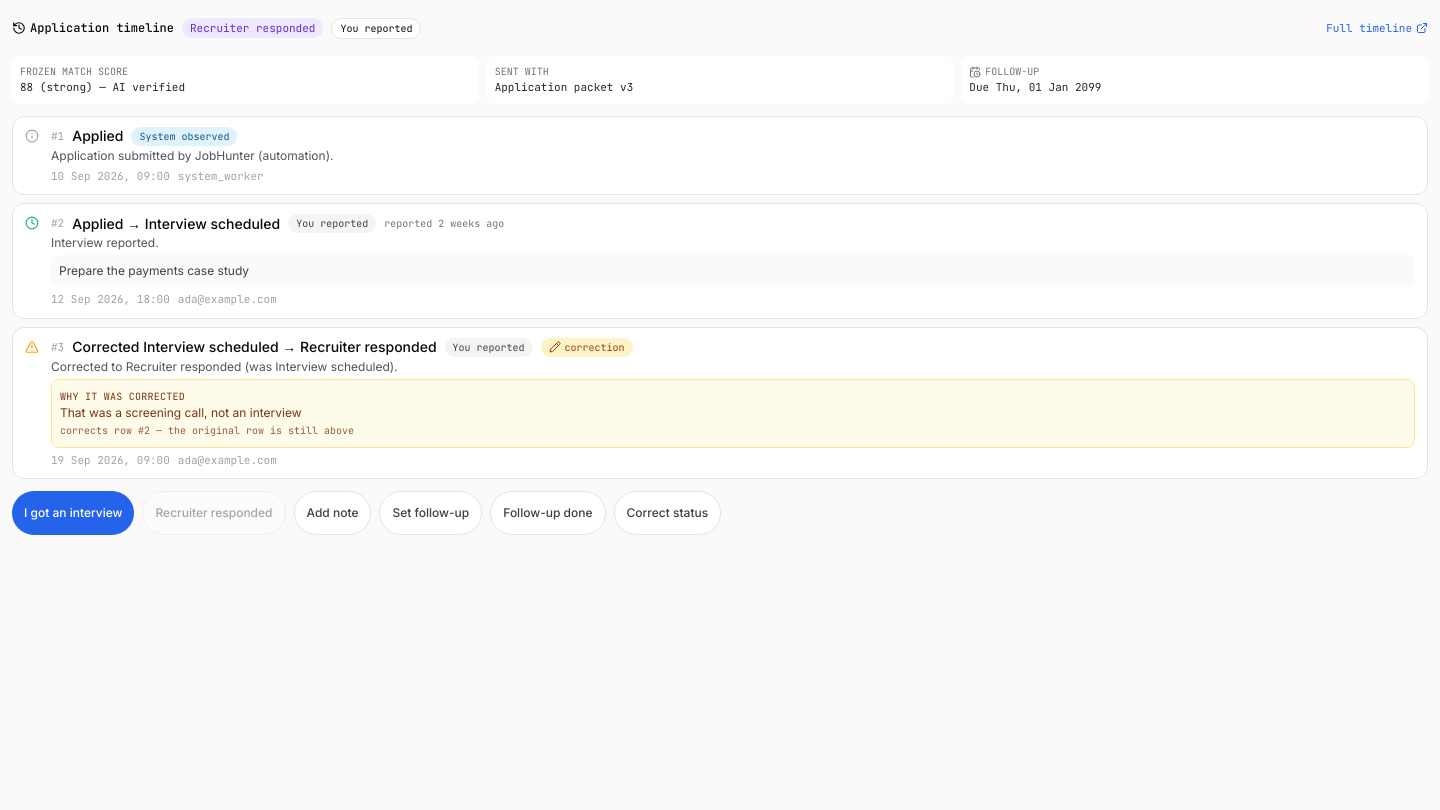
Test: TrackingPanel (the Jobs drawer) › tells the user when a write was a replay rather than a new fact
Click the button with test id "action-note" at (332, 513), box top-left (294, 491), bottom-right (371, 535)
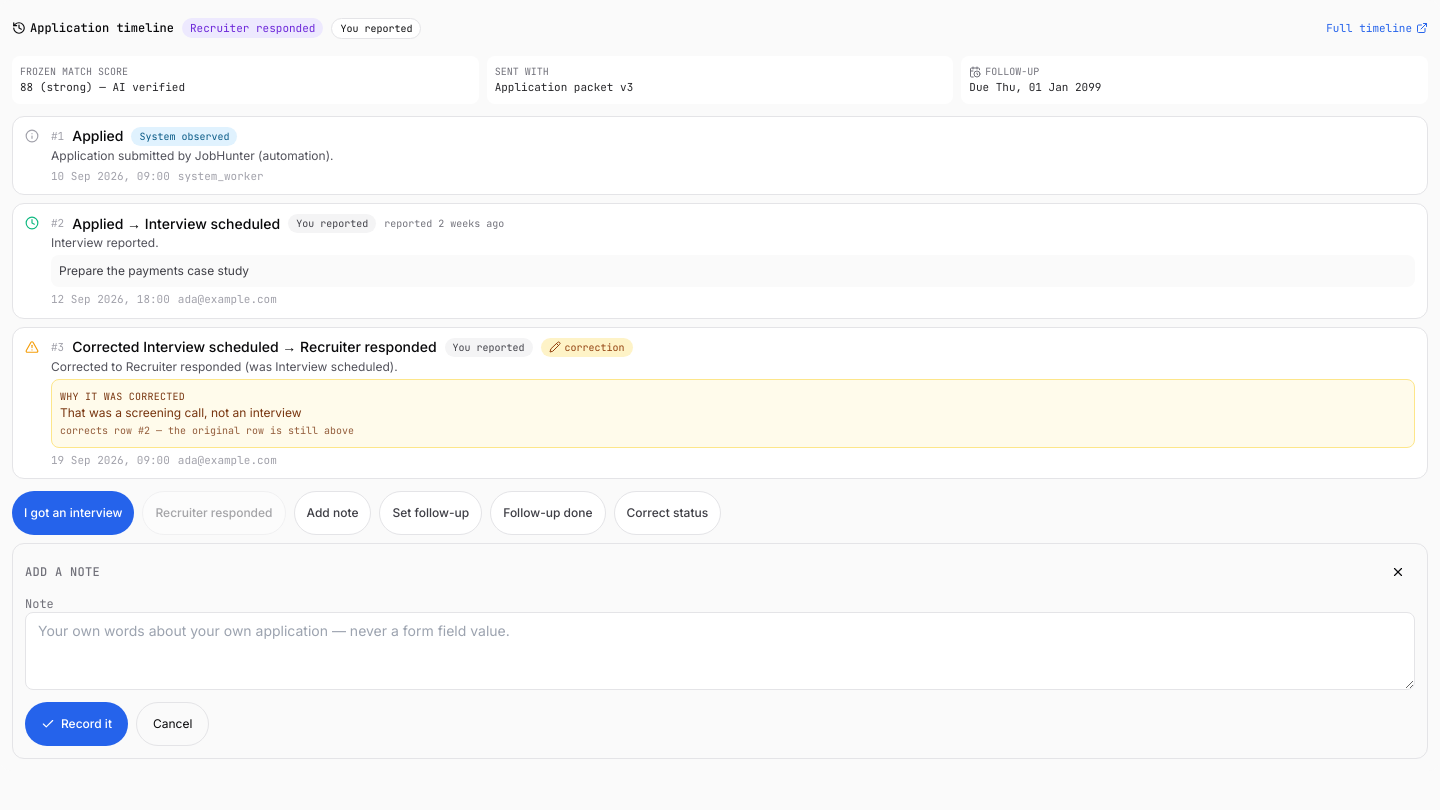
Replace the text in the text box with test id "note-input" with "Still waiting" at (720, 651), box top-left (25, 612), bottom-right (1415, 690)
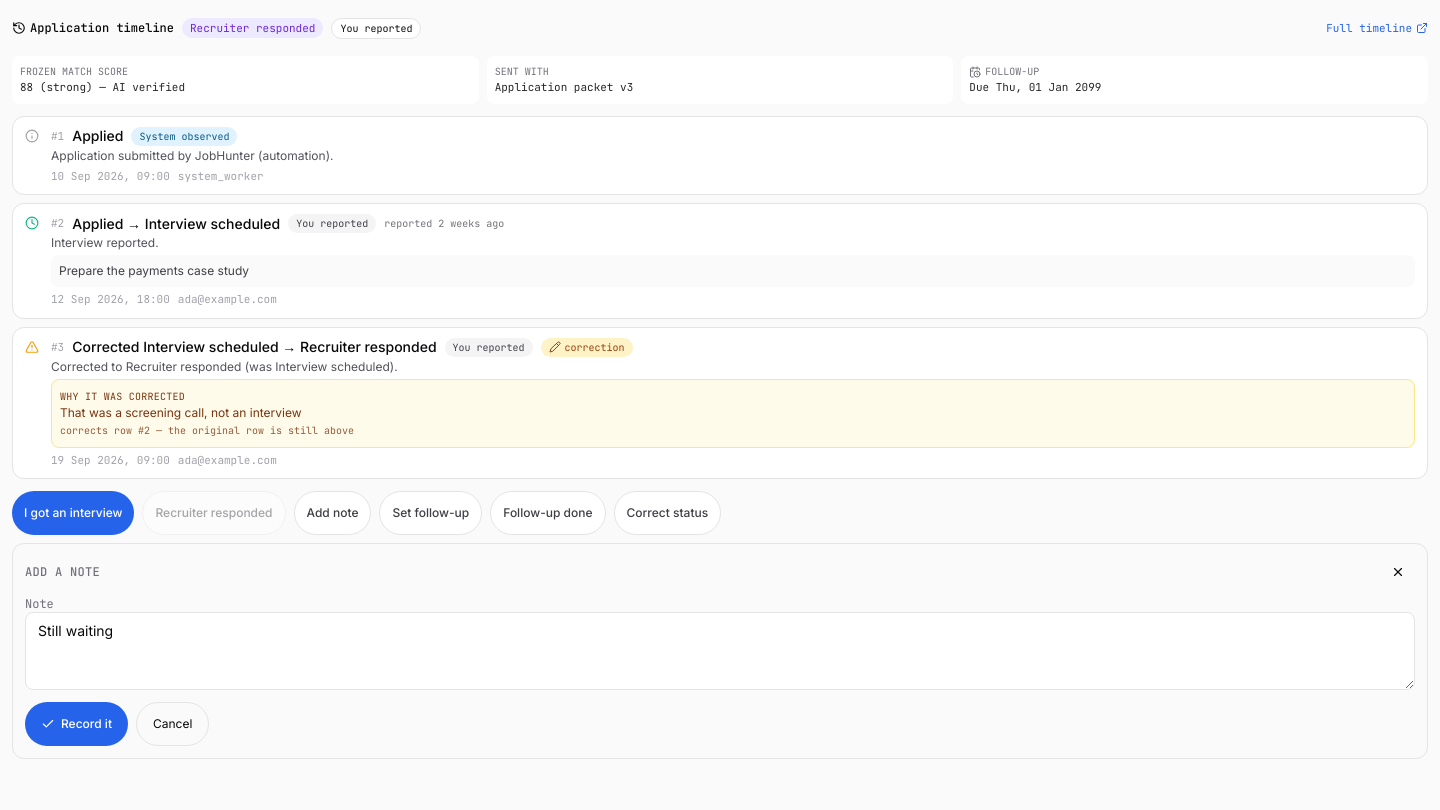
Click the button with test id "form-submit" at (76, 724), box top-left (25, 702), bottom-right (128, 746)
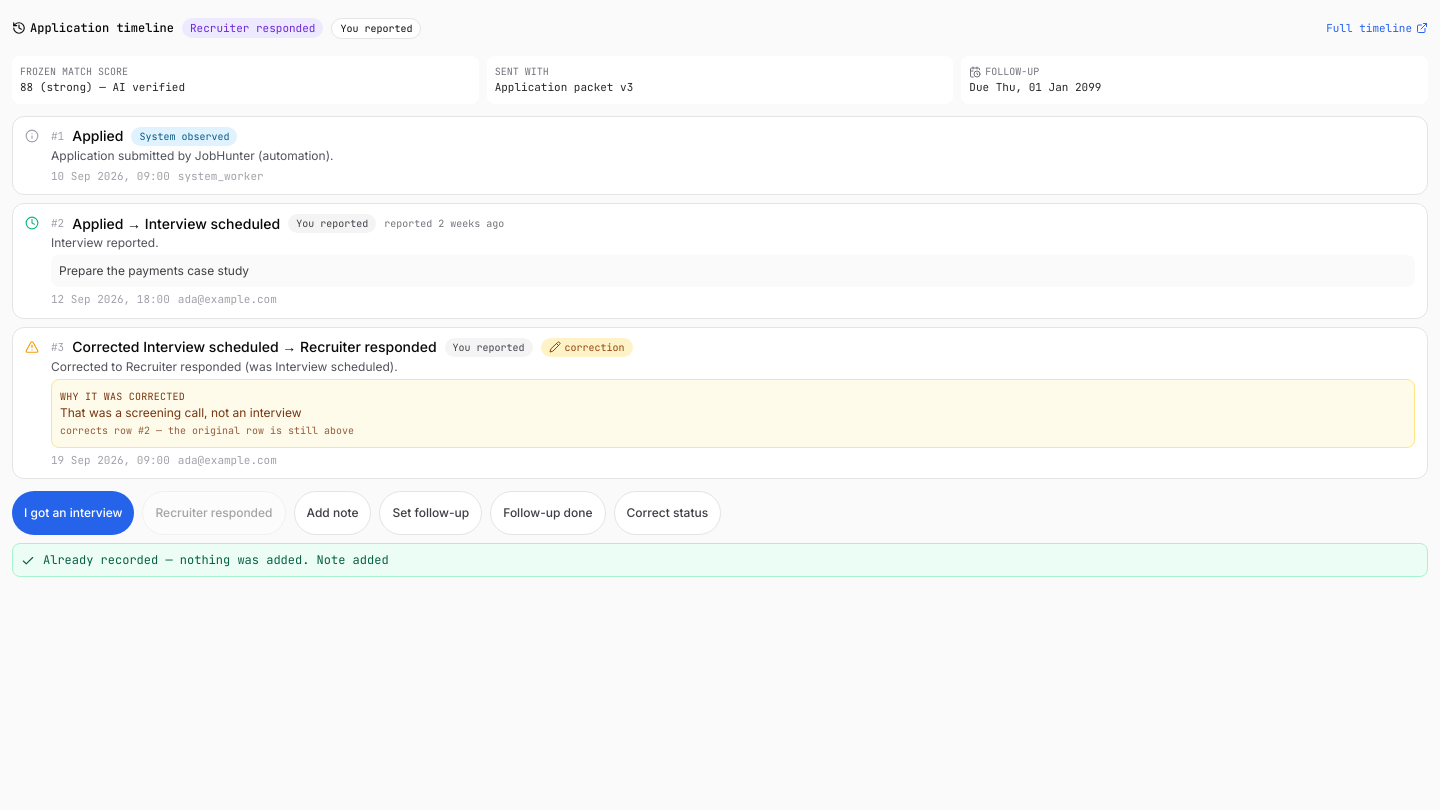
Result: the message "Already recorded — nothing was added. Note added" is shown at top-left (12, 543), bottom-right (1428, 577)
Result: the message with test id "tracking-message" shows "Already recorded" at top-left (43, 552), bottom-right (389, 568)
